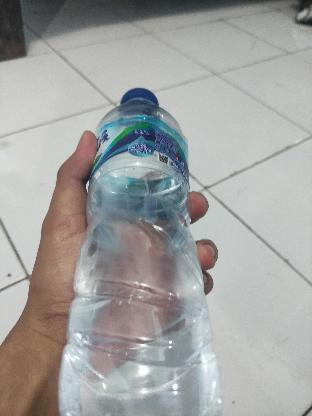Plastic Bottle: (57, 86, 222, 416)
